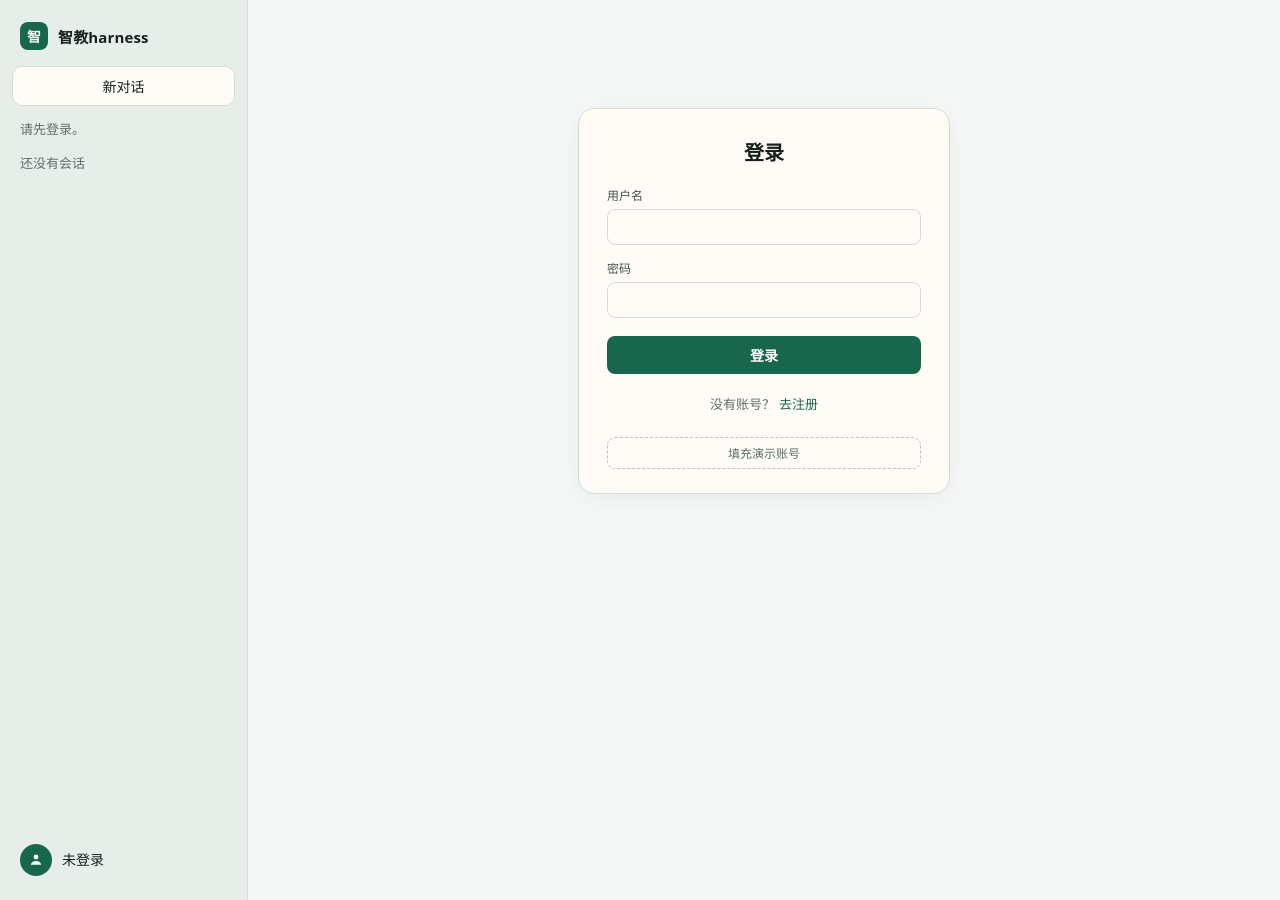
Test: 工作台 › API 配置的本机环境读环境变量，自行填写读 .env
The width and height of the screenshot is (1280, 900).
Step 1. Click the button "未登录" → (124, 860), box [12,836,235,884]
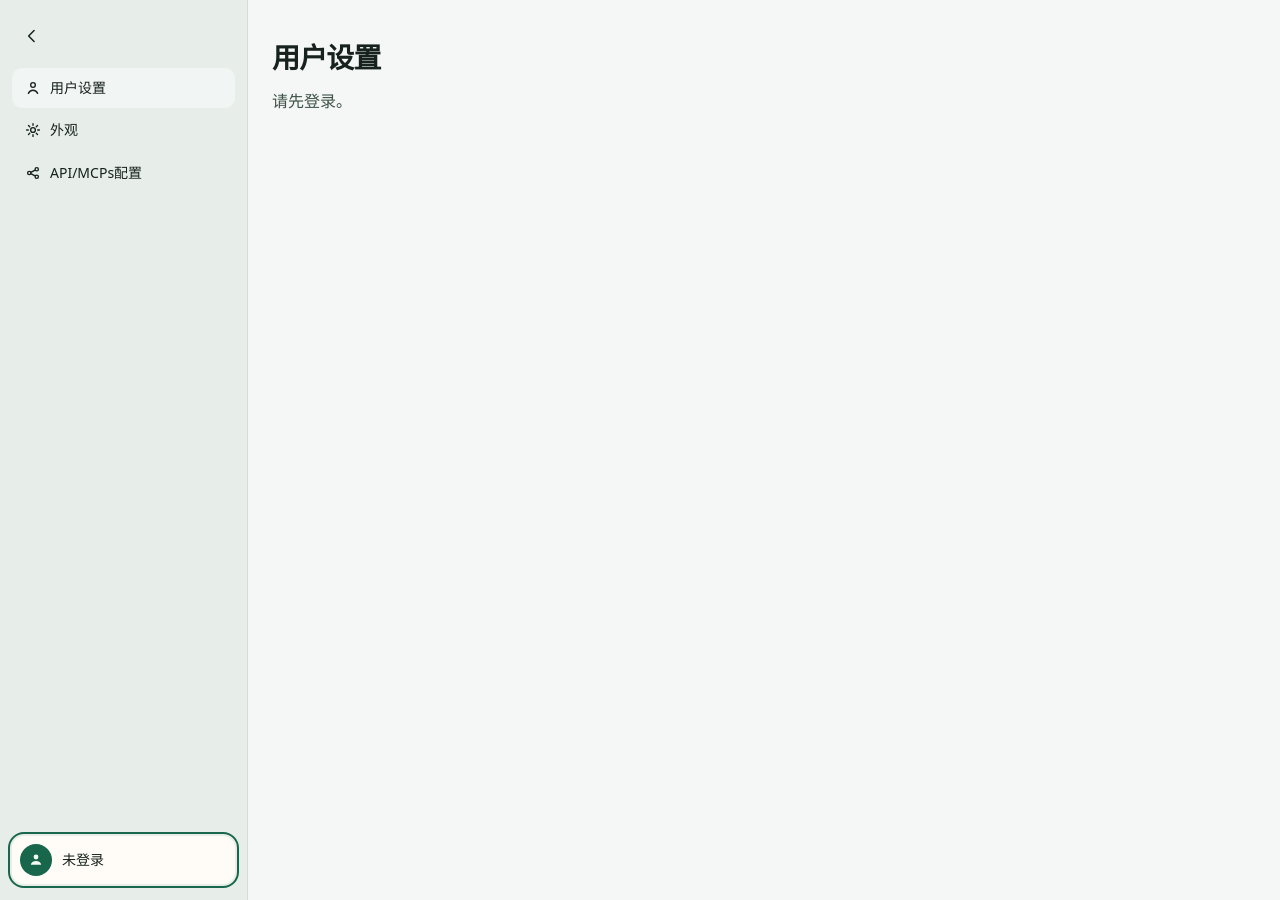
Step 2. Click the button "API/MCPs配置" → (124, 173), box [12,153,235,193]
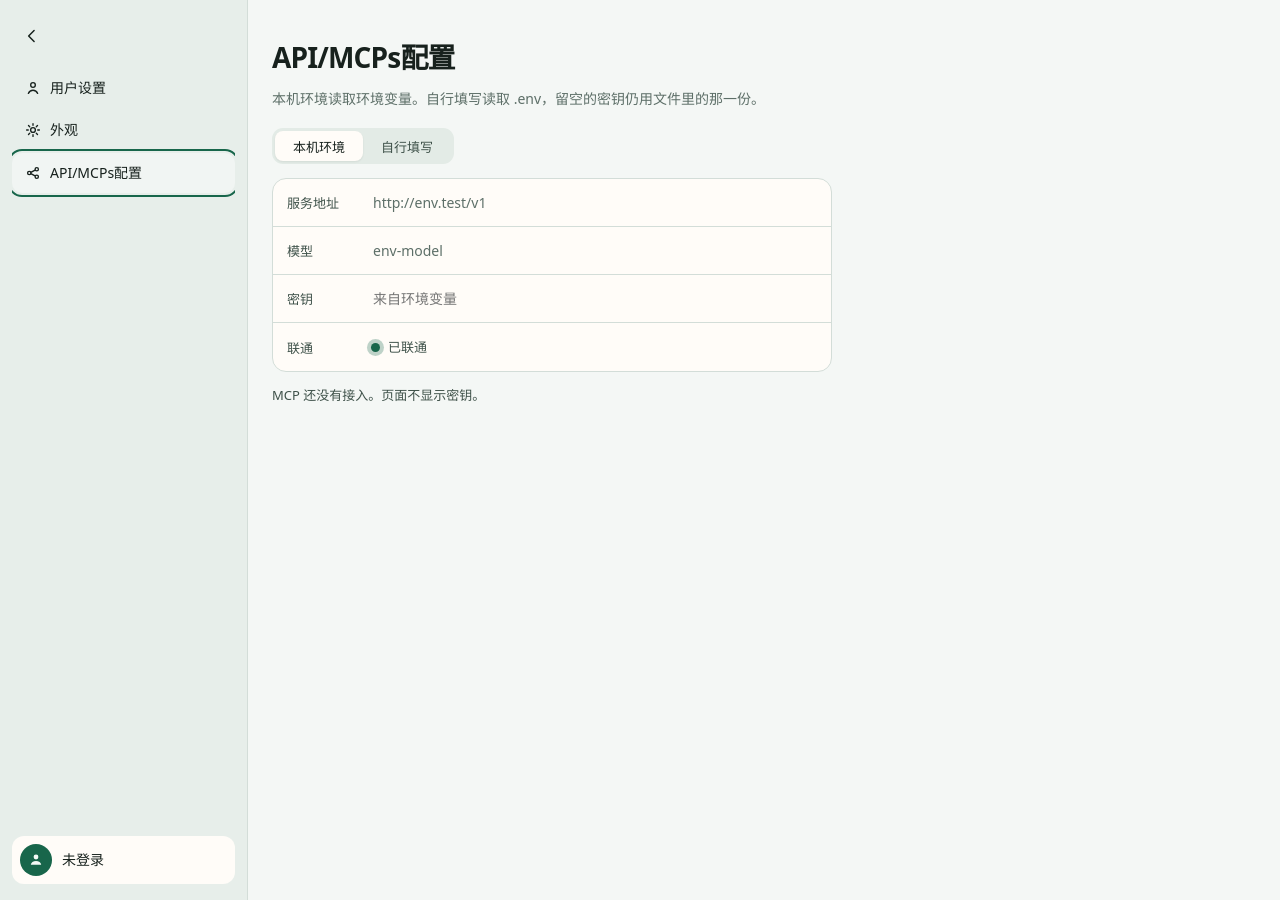
expect the radio button labelled "本机环境" is checked: met, box [275,131,363,161]
expect the field labelled "服务地址" holds "http://env.test/v1": met, box [371,180,817,226]
expect the message reads "已联通": met, box [388,338,427,356]
Step 3. Click the radio button labelled "自行填写" → (407, 147), box [381,138,433,156]
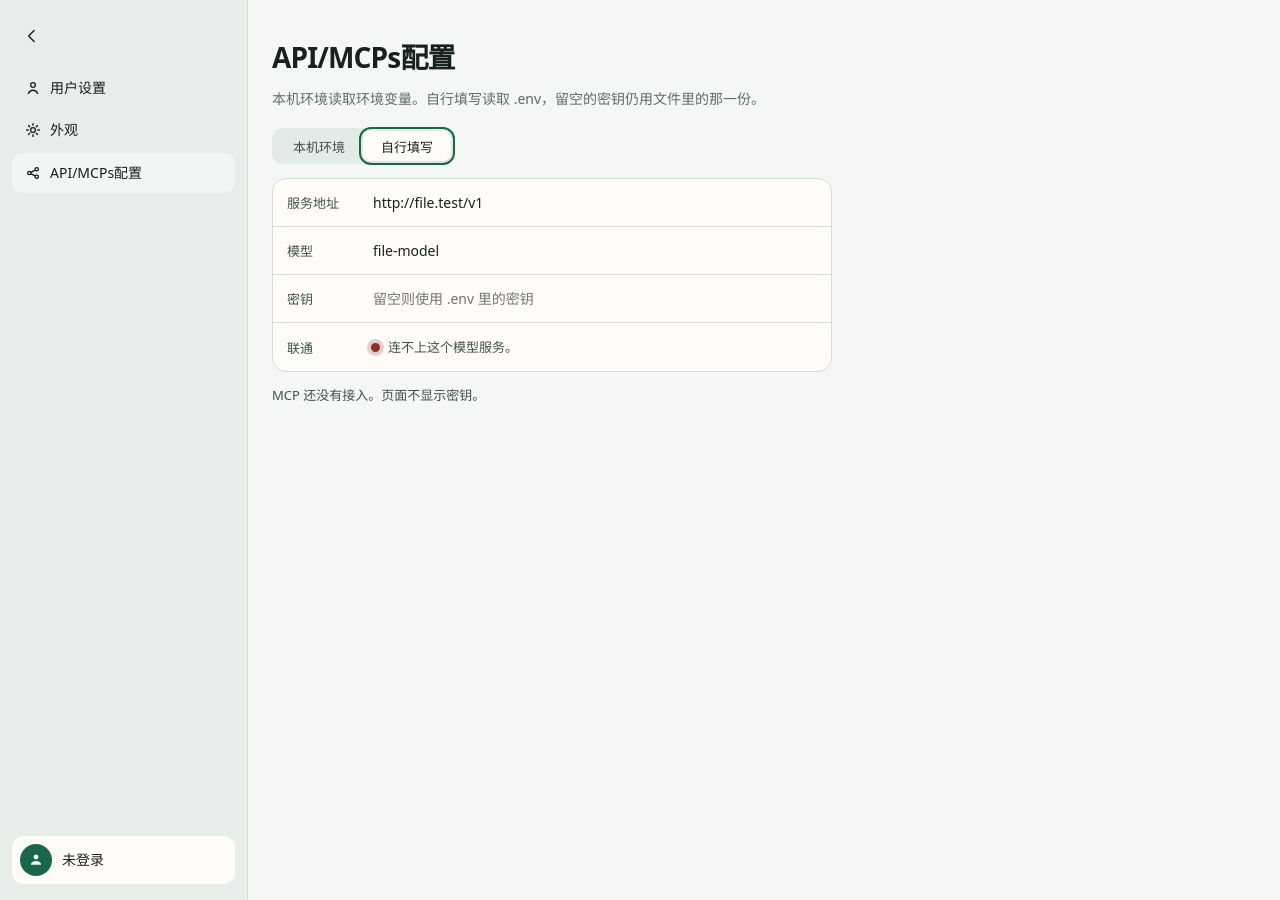
expect the field labelled "服务地址" holds "http://file.test/v1": met, box [371,180,817,226]
expect the field labelled "模型" holds "file-model": met, box [371,228,817,274]
expect the text "连不上这个模型服务。" is shown: met, box [388,338,518,356]
